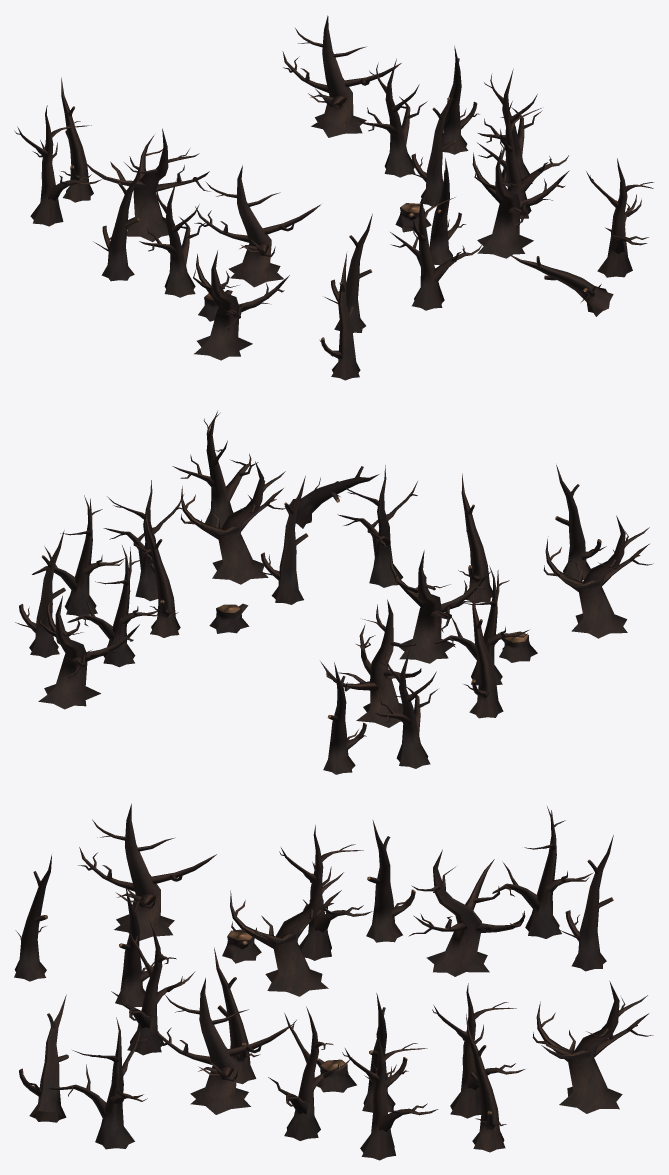
File: Trees.fbx
3 views of the same model, one above another, from view 1: azimuth 30°, elevation 25°; view 2: azimuth 150°, elevation 25°; view 3: azimuth 270°, elevation 25° (orthographic). The views are drawn at different scales.
Parts seen in each view (by area): view 1: Tree_14, Tree_3, Tree_7, Tree_11, Tree_21, Tree_10, Tree_15, Tree_1, Tree_22, Tree_17, Tree_16, Tree_5 (+9 smaller); view 2: Tree_21, Tree_11, Tree_3, Tree_7, Tree_14, Tree_17, Tree_20, Tree_22, Tree_1, Tree_10, Tree_9, Tree_16 (+10 smaller); view 3: Tree_14, Tree_7, Tree_11, Tree_3, Tree_21, Tree_22, Tree_20, Tree_17, Tree_5, Tree_10, Tree_4, Tree_1 (+10 smaller).
Part boxes in pixels (x1,y1,x2,y2): Tree_14: (282,15,401,137); Tree_3: (194,165,320,287); Tree_7: (84,128,210,241); Tree_11: (472,148,569,258); Tree_21: (193,250,289,360); Tree_10: (390,190,481,310); Tree_15: (139,178,207,297); Tree_1: (359,58,427,177); Tree_22: (586,158,653,277); Tree_17: (14,105,101,226); Tree_16: (93,162,141,281); Tree_5: (477,101,568,218); Tree_21: (543,515,653,638); Tree_11: (180,461,286,584); Tree_3: (390,550,490,663); Tree_7: (320,599,421,727); Tree_14: (38,595,139,709); Tree_17: (375,646,437,768); Tree_20: (32,495,125,616); Tree_22: (172,411,258,528); Tree_1: (67,545,161,667); Tree_10: (337,465,417,587); Tree_9: (259,476,308,604); Tree_16: (463,588,503,718); Tree_14: (532,981,653,1113); Tree_7: (408,849,525,976); Tree_11: (151,978,292,1114); Tree_3: (230,862,346,996); Tree_21: (78,803,216,940); Tree_22: (49,1017,149,1149); Tree_20: (342,1025,438,1160); Tree_17: (492,806,593,938); Tree_5: (268,1006,349,1140); Tree_10: (111,920,195,1055); Tree_4: (558,835,613,971); Tree_1: (432,983,525,1118).
Size of the model in its own units: 17.95 by 4.73 by 19.4.
Materials: 4 (4 with a texture image).
